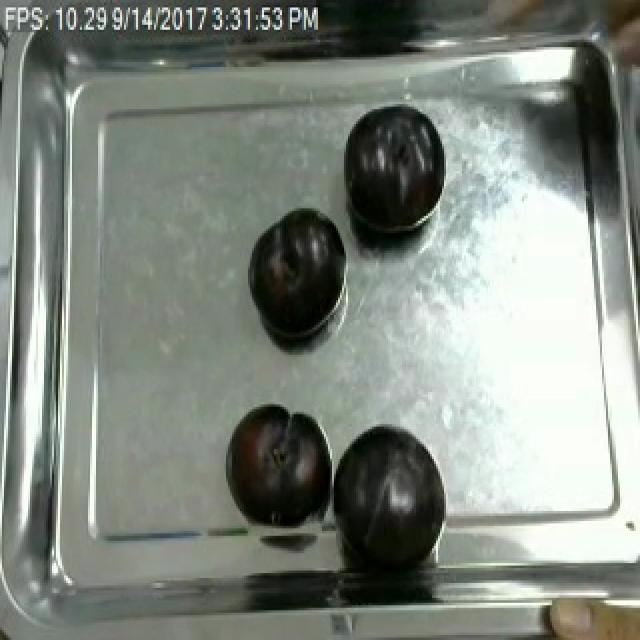Fruit: (330, 416, 446, 570), (338, 99, 452, 246), (244, 203, 348, 345), (222, 399, 330, 531), (540, 583, 640, 640)
